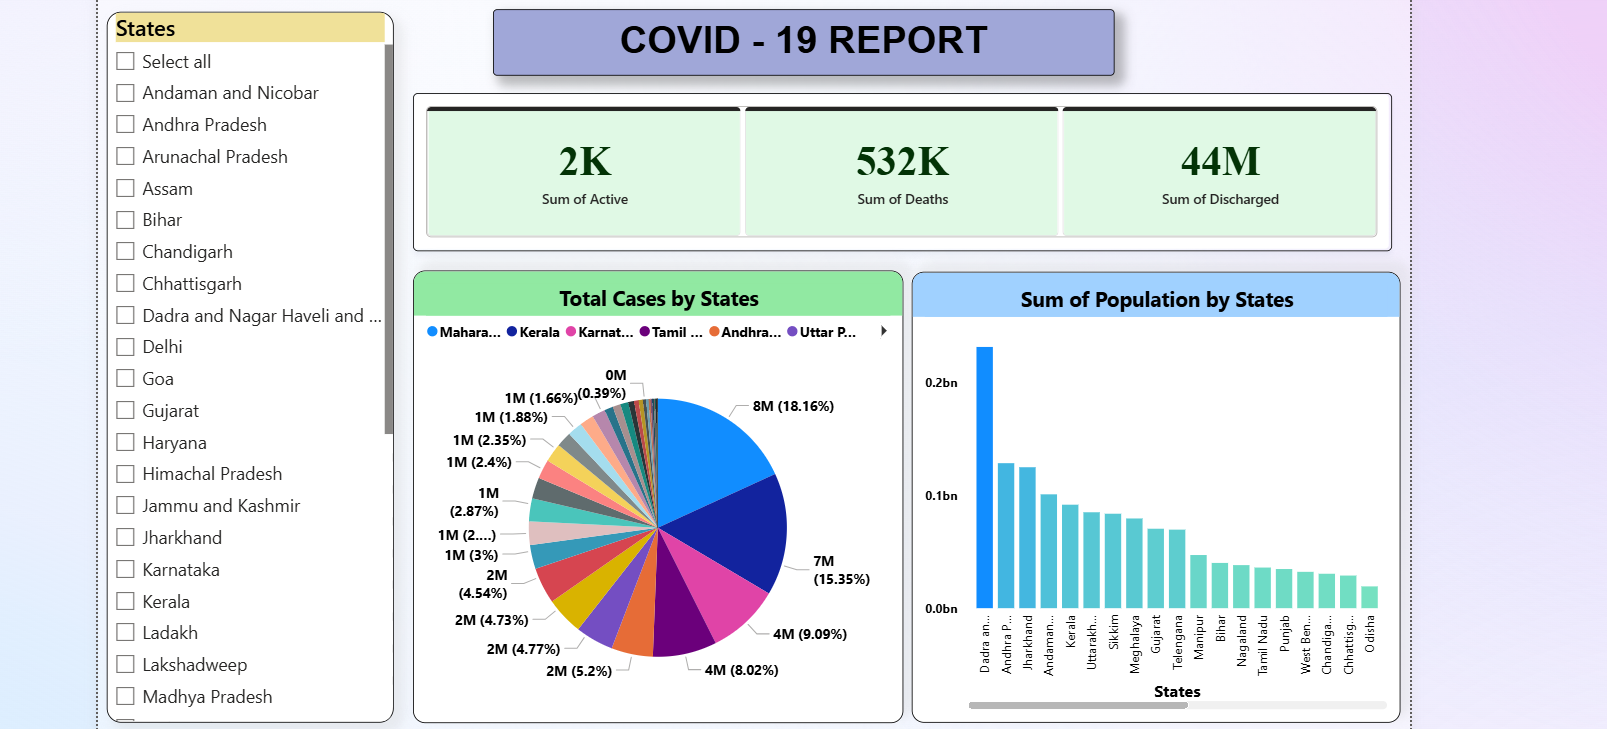

Layout of this report page (visuals, bound fields, positions):
{"tool":"powerbi","page":{"name":"Page 1","canvas":[1280,720],"ordinal":0},"visuals":[{"type":"slicer","fields":{"Values":["Covid-19 India 2.States"]},"box":[8.6,13.5,280,693.3],"z":0},{"type":"textbox","box":[385.2,11,606.5,64.8],"z":1000},{"type":"cardVisual","fields":{"Data":["Sum(Covid-19 India 2.Active)","Sum(Covid-19 India 2.Deaths)","Sum(Covid-19 India 2.Discharged)"]},"box":[306.9,92.9,955,154.1],"z":2000},{"type":"pieChart","title":"Total Cases by States","fields":{"Category":["Covid-19 India 2.States"],"Y":["Sum(Covid-19 India 2.Total_Cases)"]},"box":[306.9,265.4,478.1,441.4],"z":3000},{"type":"columnChart","fields":{"Category":["Covid-19 India 2.States"],"Y":["Sum(Covid-19 India 2.Population)"]},"box":[793.6,266.6,476.9,440.2],"z":4000}]}

Visuals, with their boxes in screenshot pixels (x1, y1, x2, y2):
slicer - Covid-19 India 2.States: Rect(101, 6, 390, 722)
textbox: Rect(490, 3, 1118, 70)
cardVisual - Sum(Covid-19 India 2.Active) x Sum(Covid-19 India 2.Deaths): Rect(409, 88, 1397, 247)
"Total Cases by States" pieChart: Rect(409, 266, 904, 722)
columnChart - Covid-19 India 2.States x Sum(Covid-19 India 2.Population): Rect(913, 267, 1406, 722)
